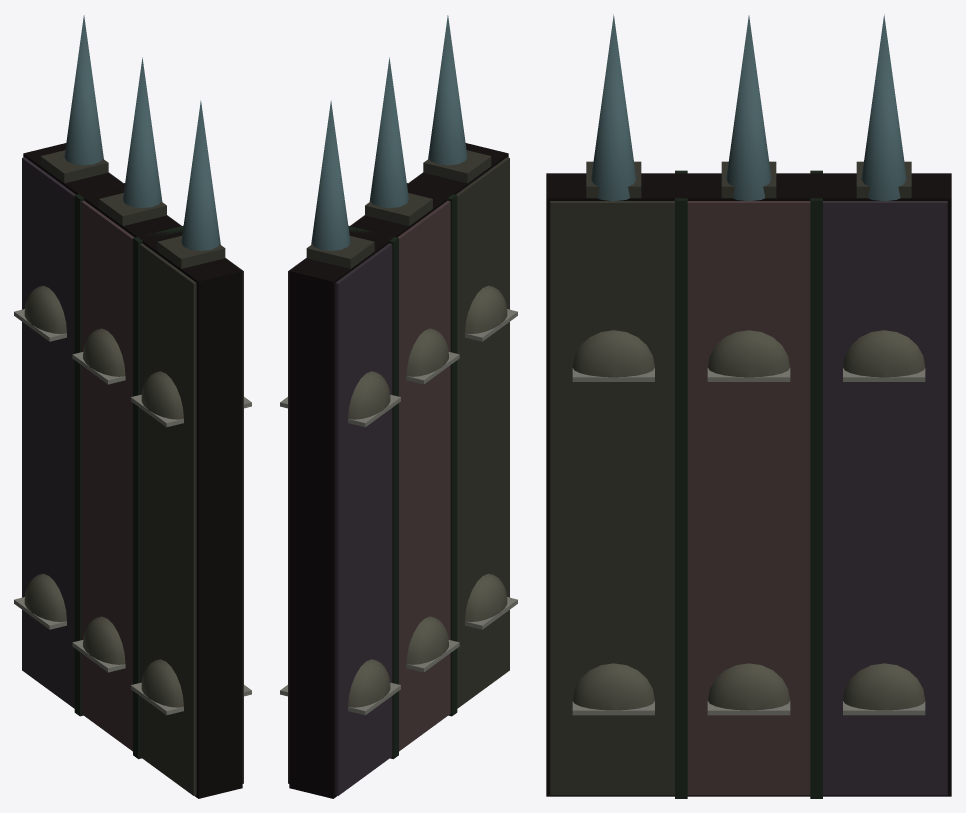
The model's file is door_spiked_z.glb.
The picture shows the model from 3 angles, left to right: view 1: azimuth 30°, elevation 25°; view 2: azimuth 150°, elevation 25°; view 3: azimuth 270°, elevation 25°; orthographic projection. The views are drawn at different scales.
Visible parts, largest first — view 1: body_0_14, boards_3_3, boards_3_13, boards_5_14, spikes_7_11, studs_5_3, straps_0_7, sockets_3_3, stud_lips_9_3; view 2: body_0_14, boards_3_13, boards_3_3, boards_5_14, spikes_7_11, studs_5_3, straps_0_7, sockets_3_3, stud_lips_9_3; view 3: boards_3_13, boards_3_3, boards_5_14, studs_5_3, straps_0_7, spikes_7_11, body_0_14, stud_lips_9_3, sockets_3_3.
Boxes of the visible parts, bbox=[...] form: body_0_14: bbox=[23, 143, 242, 798]; boards_3_3: bbox=[139, 243, 243, 795]; boards_3_13: bbox=[22, 157, 123, 708]; boards_5_14: bbox=[81, 200, 181, 751]; spikes_7_11: bbox=[64, 15, 220, 250]; studs_5_3: bbox=[24, 285, 183, 707]; straps_0_7: bbox=[74, 183, 183, 759]; sockets_3_3: bbox=[40, 150, 225, 268]; stud_lips_9_3: bbox=[14, 309, 251, 715]; body_0_14: bbox=[289, 143, 508, 798]; boards_3_13: bbox=[288, 243, 392, 795]; boards_3_3: bbox=[408, 157, 509, 708]; boards_5_14: bbox=[350, 200, 450, 751]; spikes_7_11: bbox=[311, 15, 467, 250]; studs_5_3: bbox=[348, 285, 507, 707]; straps_0_7: bbox=[348, 183, 457, 759]; sockets_3_3: bbox=[306, 150, 491, 268]; stud_lips_9_3: bbox=[280, 309, 517, 715]; boards_3_13: bbox=[823, 201, 947, 795]; boards_3_3: bbox=[550, 201, 674, 795]; boards_5_14: bbox=[687, 201, 810, 795]; studs_5_3: bbox=[572, 330, 925, 710]; straps_0_7: bbox=[675, 170, 822, 798]; spikes_7_11: bbox=[591, 14, 906, 201]; body_0_14: bbox=[546, 173, 951, 796]; stud_lips_9_3: bbox=[572, 368, 925, 715]; sockets_3_3: bbox=[586, 161, 911, 198].
Bounding box in the file's own units: 0.2637 × 1.98 × 0.9375.
